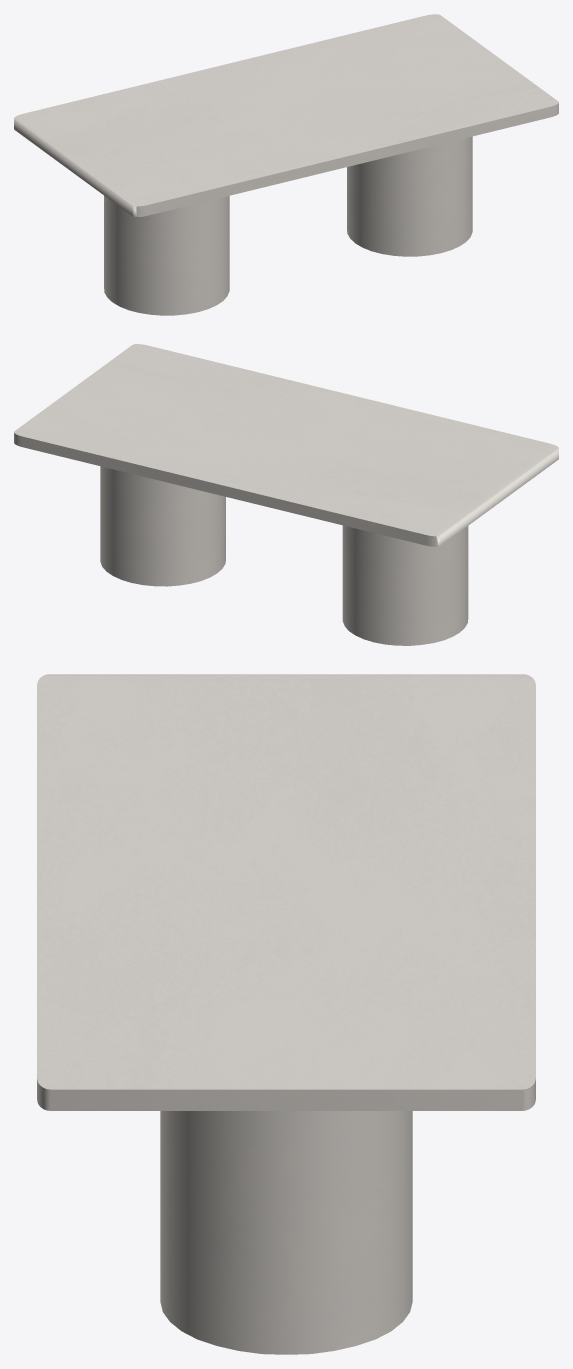
The model's file is pearlwhite_softrecta_standard_stream..glb.
The picture shows the model from 3 angles, top to bottom: view 1: azimuth 30°, elevation 25°; view 2: azimuth 150°, elevation 25°; view 3: azimuth 270°, elevation 25°; orthographic projection. The views are drawn at different scales.
Parts seen in each view (by area): view 1: pearlwhite_softrectastandard_stream.; view 2: pearlwhite_softrectastandard_stream.; view 3: pearlwhite_softrectastandard_stream..
Part boxes in pixels (x1,y1,x2,y2): pearlwhite_softrectastandard_stream.: (14, 14, 558, 315); pearlwhite_softrectastandard_stream.: (14, 344, 558, 645); pearlwhite_softrectastandard_stream.: (37, 674, 535, 1354).
Bounding box in the file's own units: 7.5 × 2.52 × 3.8.
Materials: 1 (1 with a texture image).
